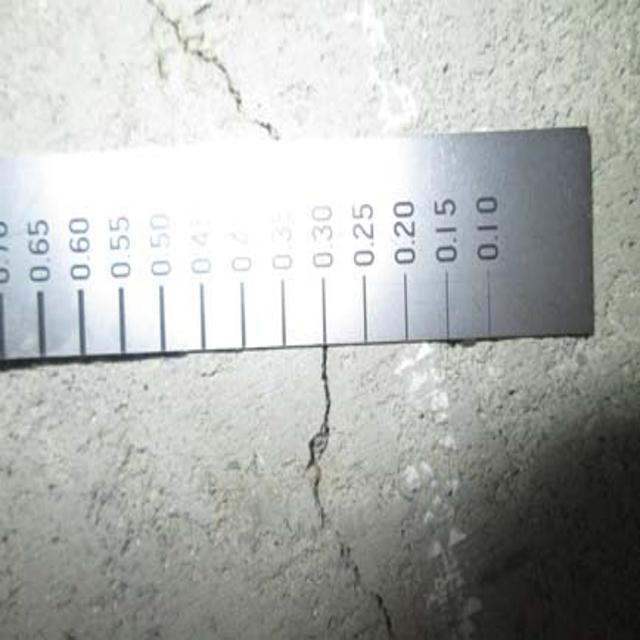crack: (290, 348, 422, 640), (143, 10, 296, 157)
